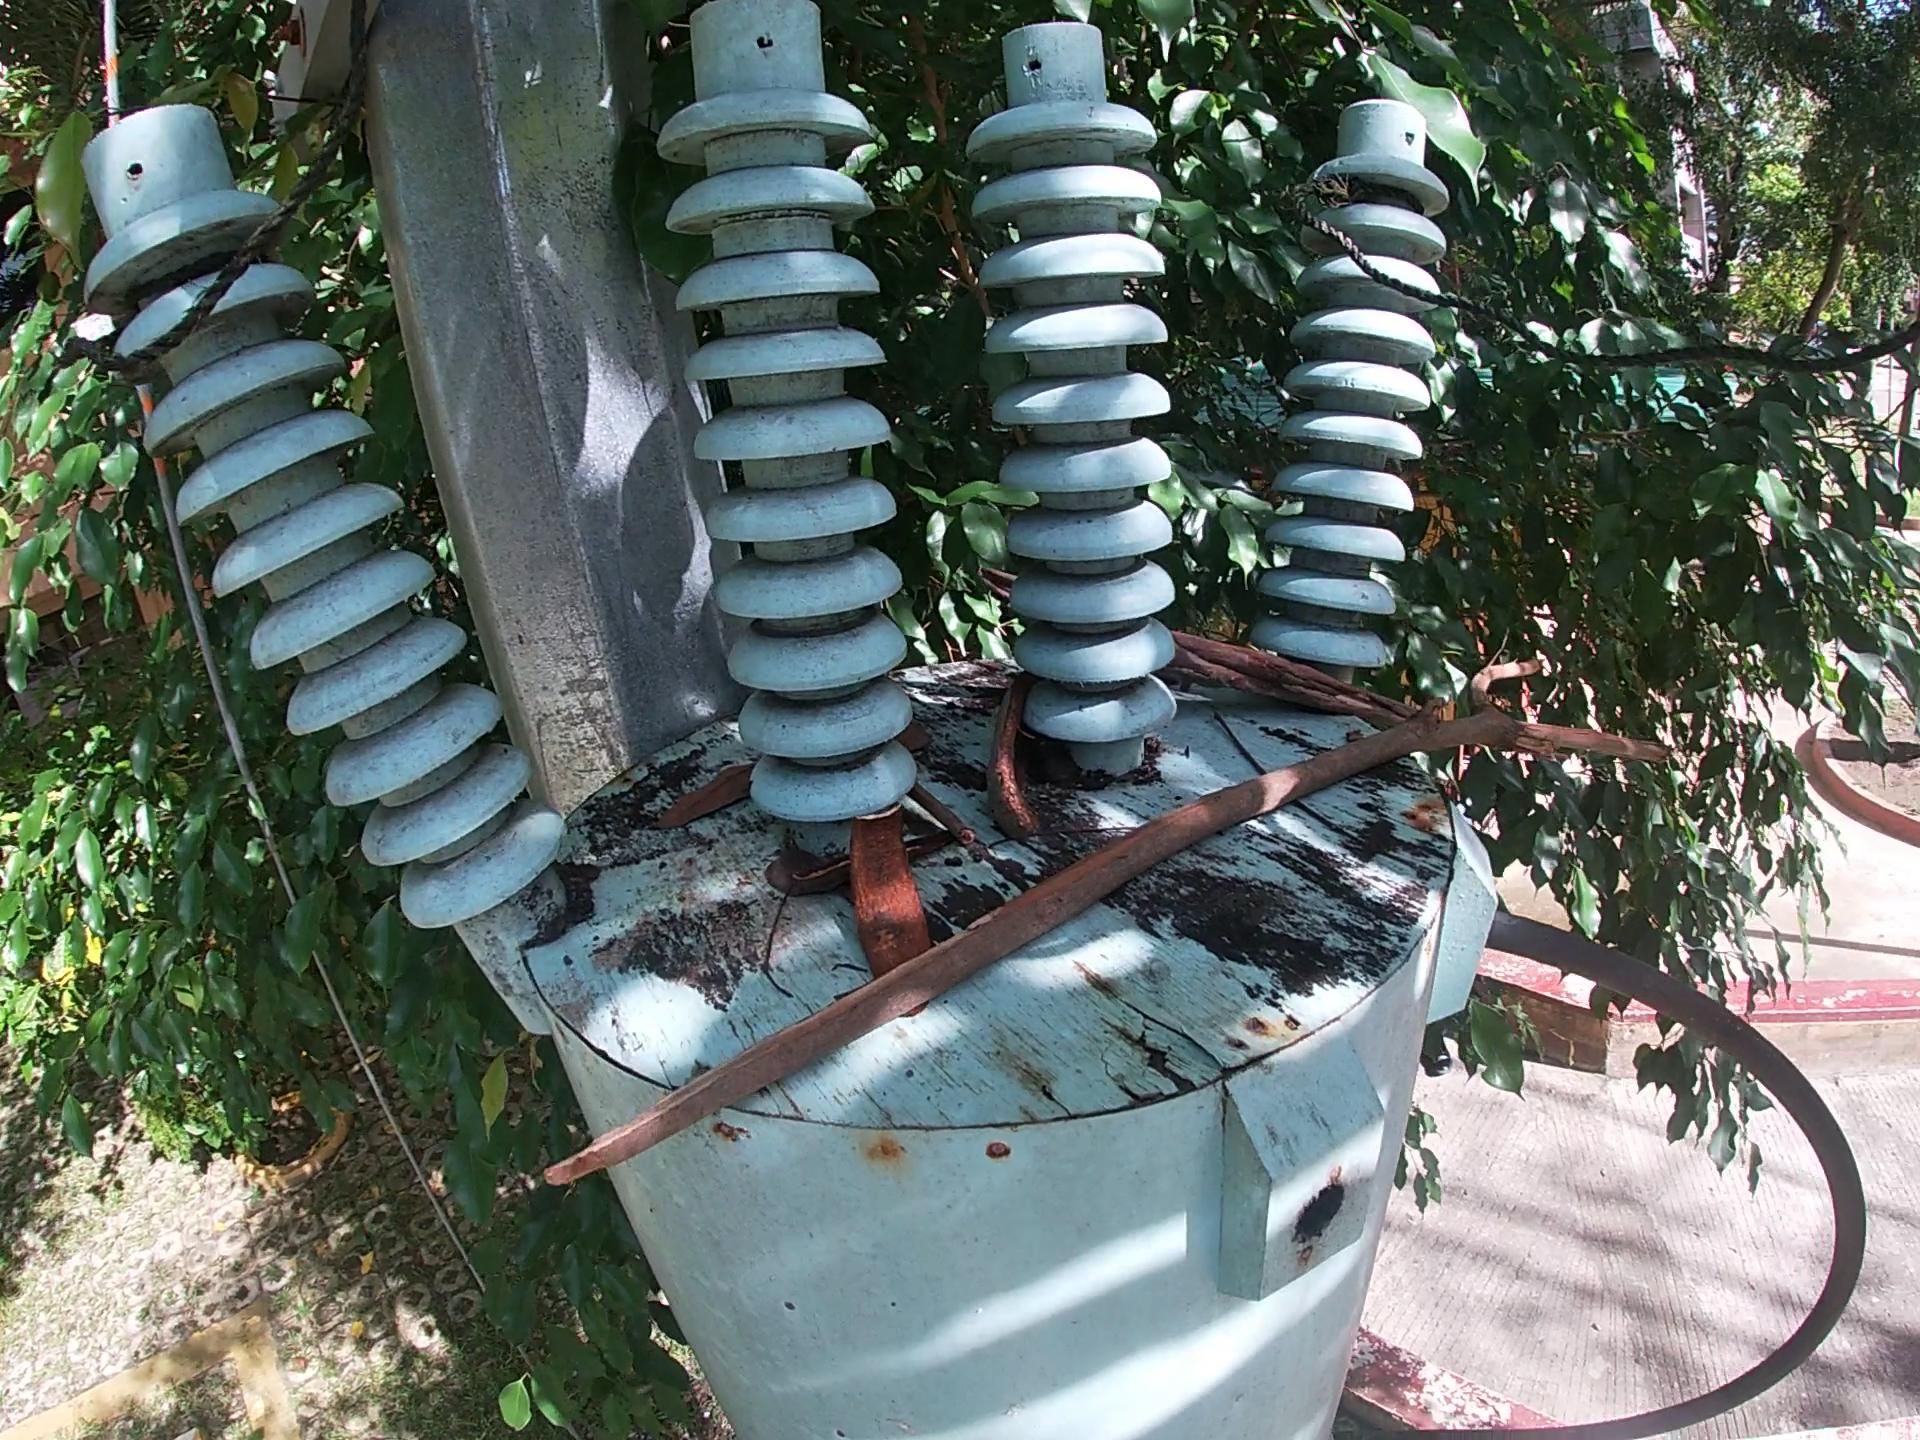leaf: (646, 759, 762, 844), (895, 715, 934, 759)
mahogany fruit: (847, 805, 934, 979), (980, 670, 1048, 847)
tree branch: (528, 641, 1692, 1196), (1169, 632, 1457, 744), (915, 790, 983, 855)
